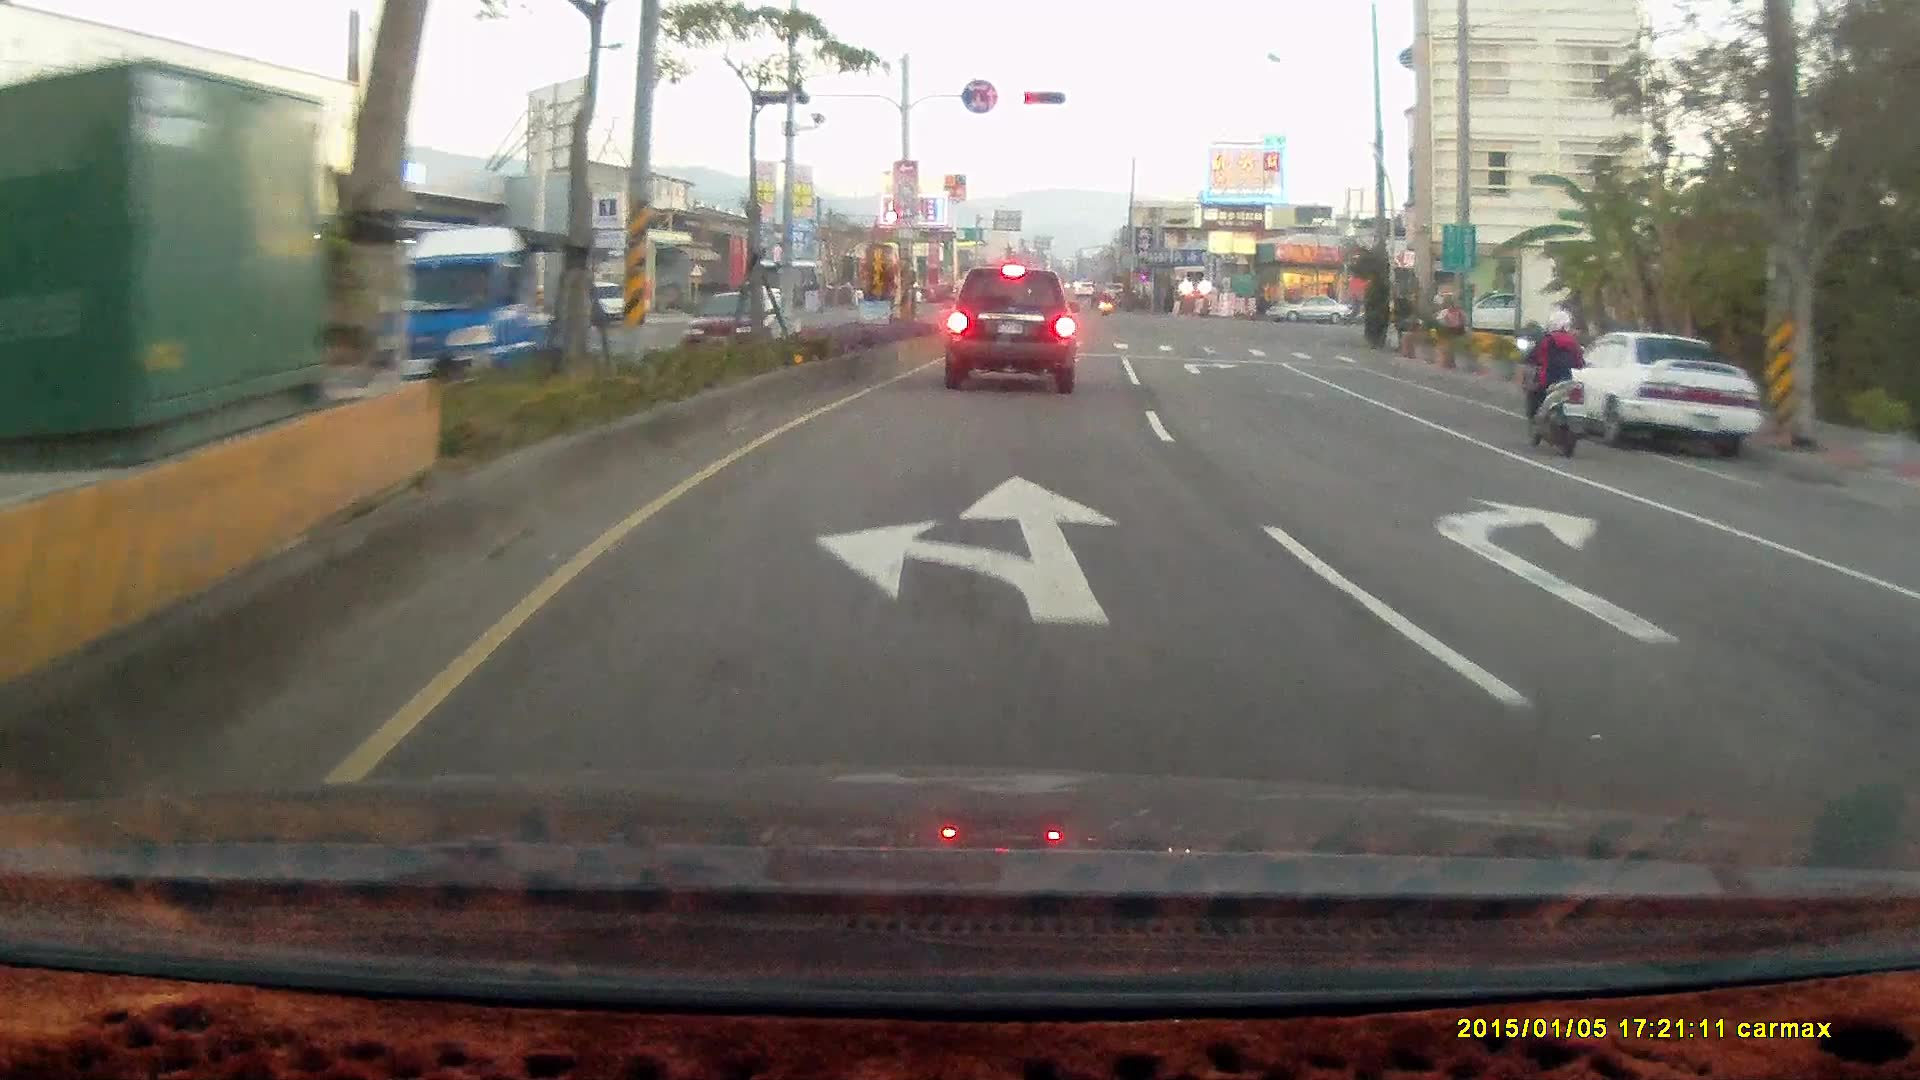rider: (1511, 307, 1591, 456), (1339, 293, 1367, 326)
vehicle: (356, 227, 596, 387), (1540, 326, 1765, 459), (1545, 327, 1769, 459), (941, 266, 1078, 395), (1896, 493, 1920, 836), (1883, 528, 1920, 690), (1438, 288, 1543, 336), (1265, 291, 1351, 324)
